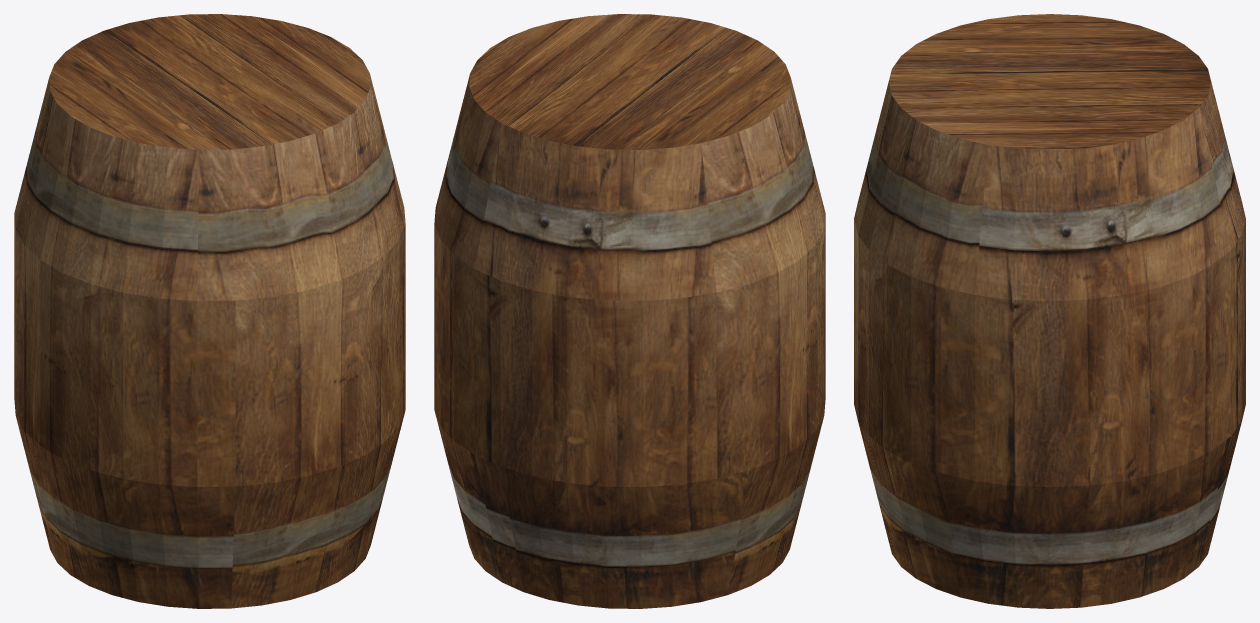
Rendered from Barrel.glb.
3 renders of one model, left to right at view 1: azimuth 30°, elevation 25°; view 2: azimuth 150°, elevation 25°; view 3: azimuth 270°, elevation 25°, orthographic.
Visible parts, largest first — view 1: Cylinder; view 2: Cylinder; view 3: Cylinder.
Boxes of the visible parts, bbox=[...] form: Cylinder: bbox=[14, 14, 405, 608]; Cylinder: bbox=[434, 14, 825, 608]; Cylinder: bbox=[854, 14, 1245, 608].
Bounding box in the file's own units: 1.05 × 1.35 × 1.05.
Materials: 1 (1 with a texture image).
